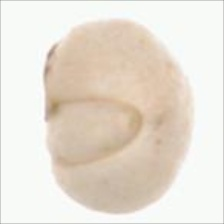L5: (44, 96, 148, 169), (178, 78, 197, 151)
L6: (37, 17, 201, 216)
